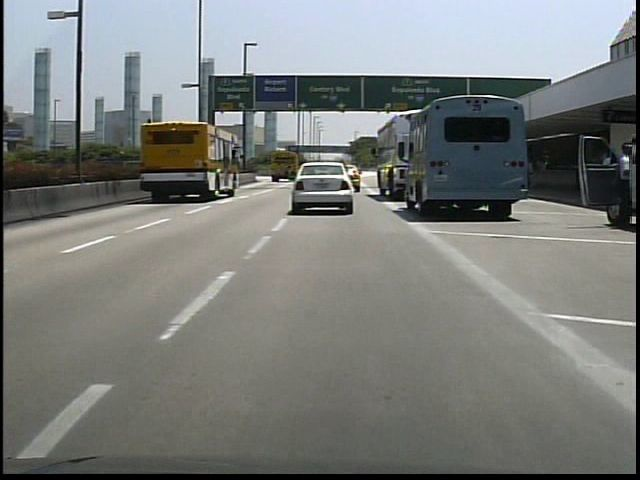person: (589, 139, 630, 229)
